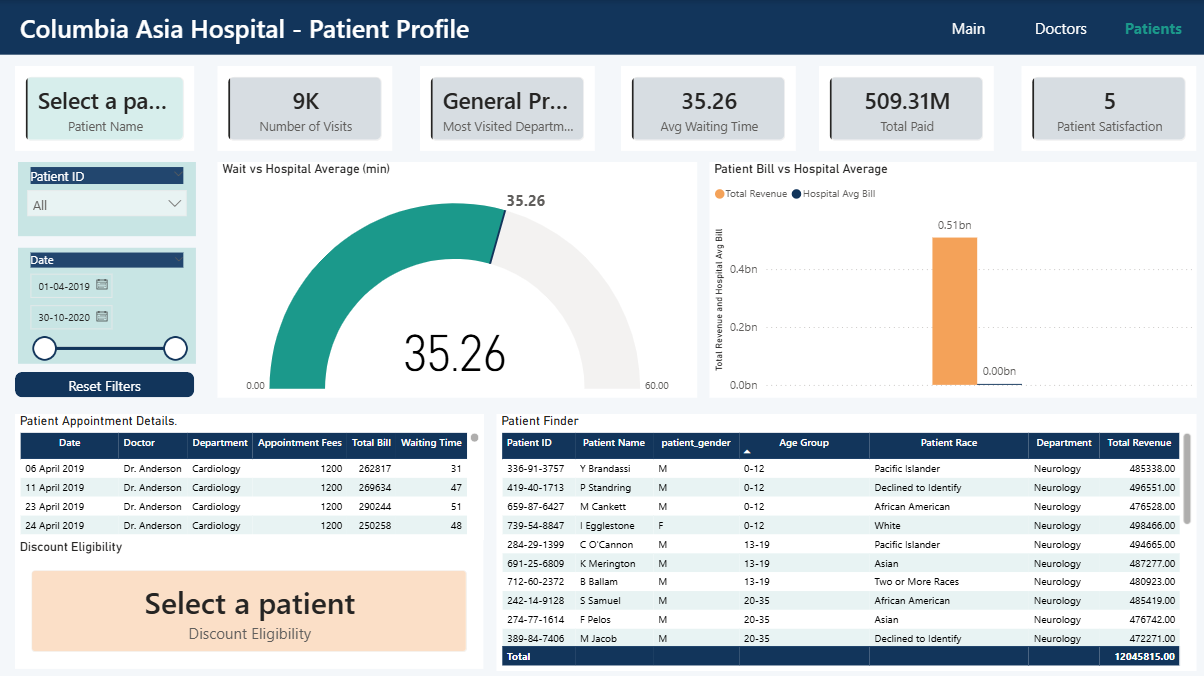

The dashboard page shown, as its layout file describes it:
{"tool":"powerbi","page":{"name":"Patients","canvas":[1280,720],"ordinal":2},"visuals":[{"type":"cardVisual","title":"P","fields":{"Data":["_Measures.Patient Name"]},"box":[16.7,70,190,90],"z":0},{"type":"shape","box":[0,0,1600,58],"z":1000},{"type":"textbox","box":[0,0,1600,58.3],"z":2000},{"type":"slicer","fields":{"Values":["Dim_Date.Date"]},"box":[18.3,261.7,188.3,123.3],"z":3000},{"type":"actionButton","title":"Reset Filters","box":[16.7,395,190,26.7],"z":4000},{"type":"slicer","title":"Select Doctor","fields":{"Values":["Dim_Patient.patient_id"]},"box":[18.3,171.7,188.3,78.3],"z":5000},{"type":"pageNavigator","box":[983.3,11.7,285,36.7],"z":6000},{"type":"cardVisual","title":"P","fields":{"Data":["_Measures.Most Visited Department"]},"box":[445,70,185,90],"z":7000},{"type":"cardVisual","title":"P","fields":{"Data":["_Measures.Avg Wait Time (min)"]},"box":[658.3,70,185,90],"z":8000},{"type":"cardVisual","title":"P","fields":{"Data":["_Measures.Total Revenue"]},"box":[868.3,70,185,90],"z":9000},{"type":"cardVisual","title":"P","fields":{"Data":["_Measures.Total Visits"]},"box":[230,70,185,90],"z":10000},{"type":"gauge","title":"Wait vs Hospital Average (min)","fields":{"Y":["_Measures.Avg Wait Time (min)"],"TargetValue":["_Measures.Hospital Avg Wait"]},"box":[230,171.7,508.3,250],"z":11000},{"type":"clusteredColumnChart","title":"Patient Bill vs Hospital Average","fields":{"Y":["_Measures.Total Revenue","_Measures.Hospital Avg Bill"]},"box":[751.7,171.7,516.7,250],"z":12000},{"type":"cardVisual","title":"Discount Eligibility","fields":{"Data":["_Measures.Discount Eligibility"]},"box":[16.7,573.3,496.7,136.7],"z":13000},{"type":"tableEx","title":"Patient Appointment Details.","fields":{"Values":["Dim_Date.Date","Dim_Doctor.Doctor Name","FactVisits.department_referral","Sum(FactVisits.Appointment Fees)","Sum(FactVisits.Total Bill)","Sum(FactVisits.patient_waittime)"]},"box":[16.7,438.3,496.7,133.3],"z":14000},{"type":"tableEx","title":"Patient Finder","fields":{"Values":["Dim_Patient.patient_id","Dim_Patient.Patient Name","Dim_Patient.patient_gender","Dim_Patient.Age Group","Dim_Patient.patient_race","FactVisits.department_referral","_Measures.Total Revenue"]},"box":[526.7,438.3,741.7,271.7],"z":15000},{"type":"cardVisual","title":"P","fields":{"Data":["_Measures.Patient Satisfaction Text"]},"box":[1083.3,70,185,90],"z":16000}]}

Visuals, with their boxes in screenshot pixels (x1, y1, x2, y2), scaled from the page's 1280x720 canvas onto the 1204x676 screenshot:
"P" cardVisual: left=16, top=66, right=194, bottom=150
shape: left=0, top=0, right=1203, bottom=54
textbox: left=0, top=0, right=1203, bottom=55
slicer - Dim_Date.Date: left=17, top=246, right=194, bottom=361
"Reset Filters" actionButton: left=16, top=371, right=194, bottom=396
"Select Doctor" slicer: left=17, top=161, right=194, bottom=235
pageNavigator: left=925, top=11, right=1193, bottom=45
"P" cardVisual: left=419, top=66, right=593, bottom=150
"P" cardVisual: left=619, top=66, right=793, bottom=150
"P" cardVisual: left=817, top=66, right=991, bottom=150
"P" cardVisual: left=216, top=66, right=390, bottom=150
"Wait vs Hospital Average (min)" gauge: left=216, top=161, right=694, bottom=396
"Patient Bill vs Hospital Average" clusteredColumnChart: left=707, top=161, right=1193, bottom=396
"Discount Eligibility" cardVisual: left=16, top=538, right=483, bottom=667
"Patient Appointment Details." tableEx: left=16, top=412, right=483, bottom=537
"Patient Finder" tableEx: left=495, top=412, right=1193, bottom=667
"P" cardVisual: left=1019, top=66, right=1193, bottom=150
